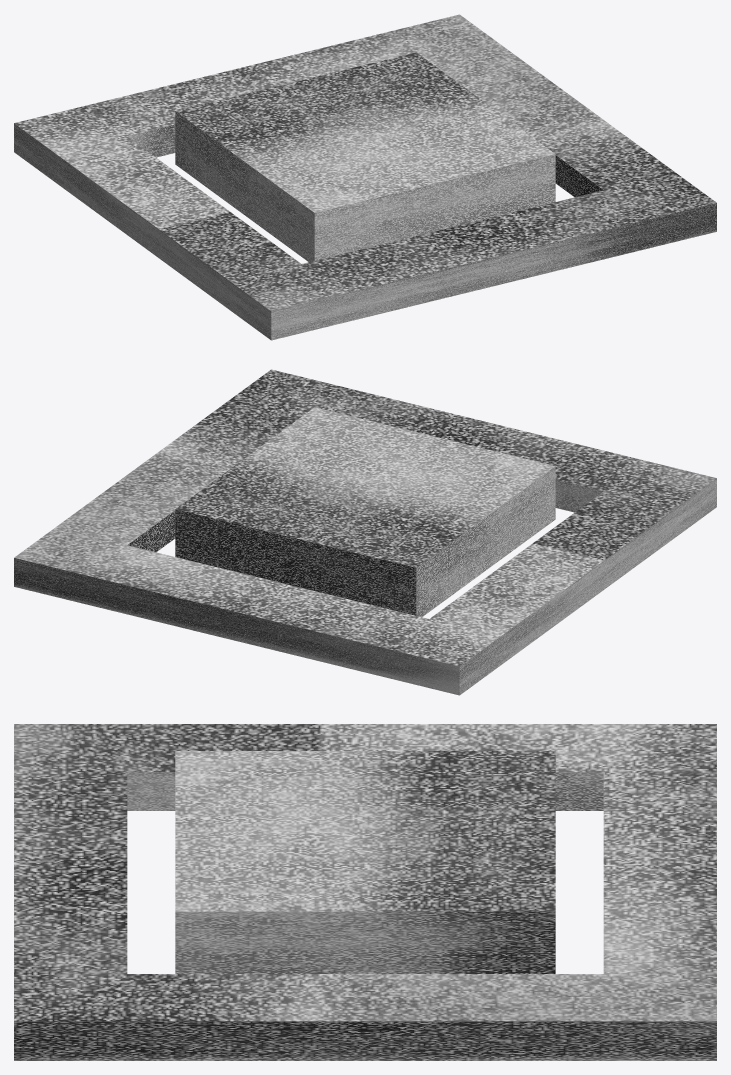
File: meme8.glb
The picture shows the model from 3 angles, top to bottom: view 1: azimuth 30°, elevation 25°; view 2: azimuth 150°, elevation 25°; view 3: azimuth 270°, elevation 25°; orthographic projection. The views are drawn at different scales.
Visible parts, largest first — view 1: Cube.036, Cube.035; view 2: Cube.036, Cube.035; view 3: Cube.036, Cube.035.
Boxes of the visible parts, x1,y1,x2,y2 form: Cube.036: [14, 14, 716, 340]; Cube.035: [175, 52, 555, 261]; Cube.036: [14, 369, 716, 695]; Cube.035: [175, 407, 555, 616]; Cube.036: [14, 724, 716, 1060]; Cube.035: [175, 751, 555, 973].
Bounding box in the file's own units: 0.7549 × 0.0961 × 0.7549.
1 material, 1 textured.
